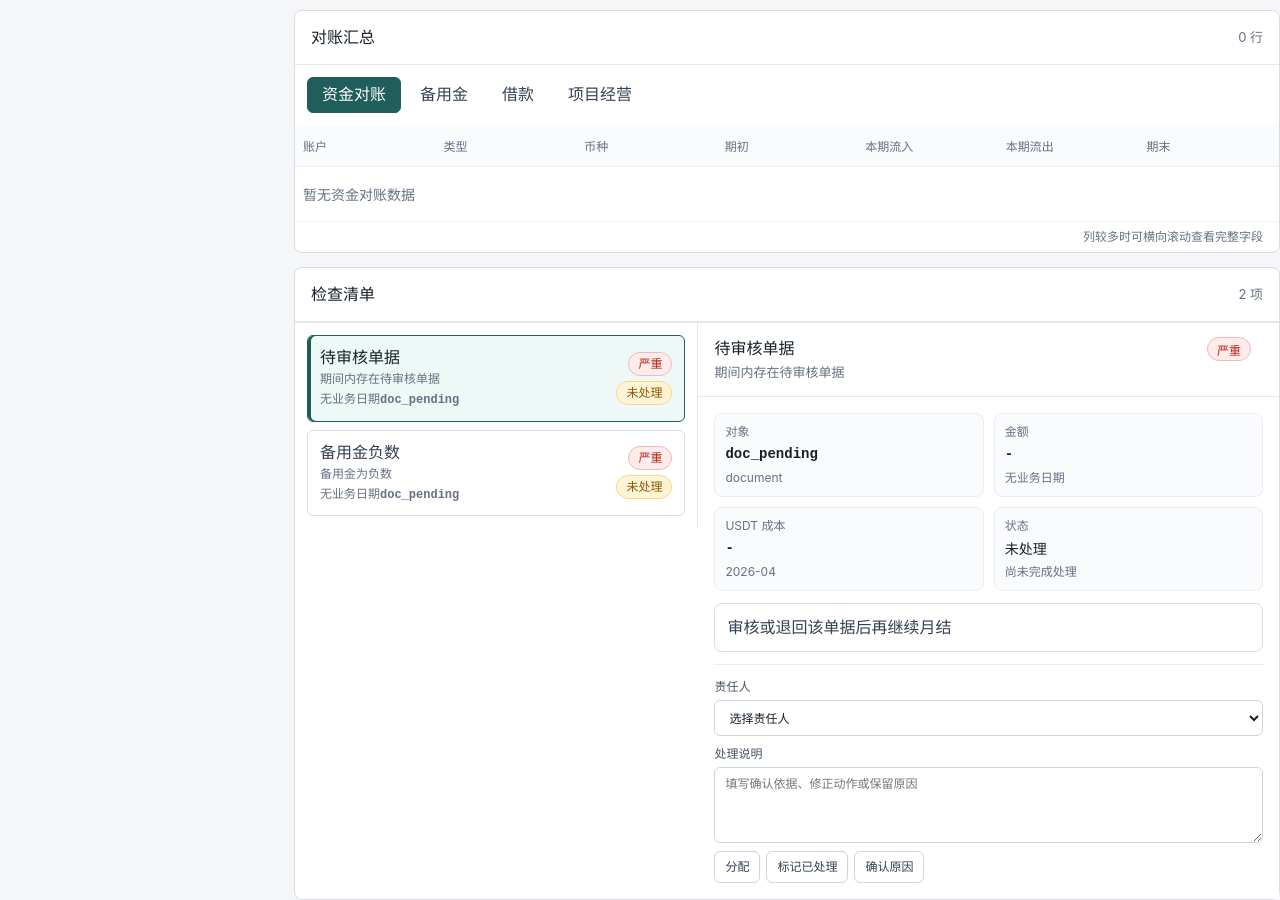
Scenario: MonthClosePage › shows checks as a selectable exception queue with a detail workspace
The width and height of the screenshot is (1280, 900).
(page scrolled)
expect the element with class "month-close-check-workspace" is shown: met, box [295,322,1279,899]
Click the button that starts with "备用金负数" at (360, 452), box [307,430,685,516]
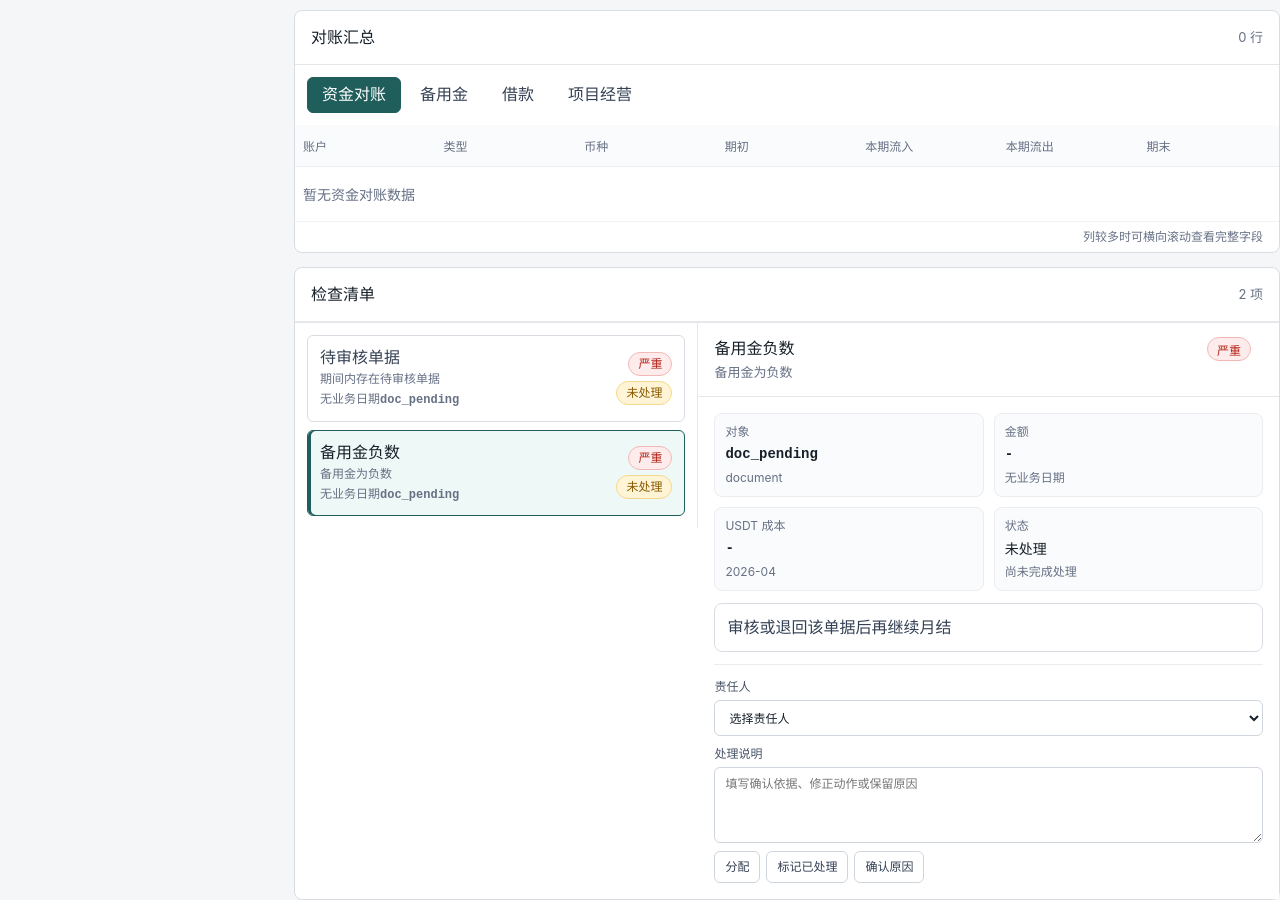
expect the element with class "detail-panel" shows "备用金为负数": met, box [714,364,792,380]
